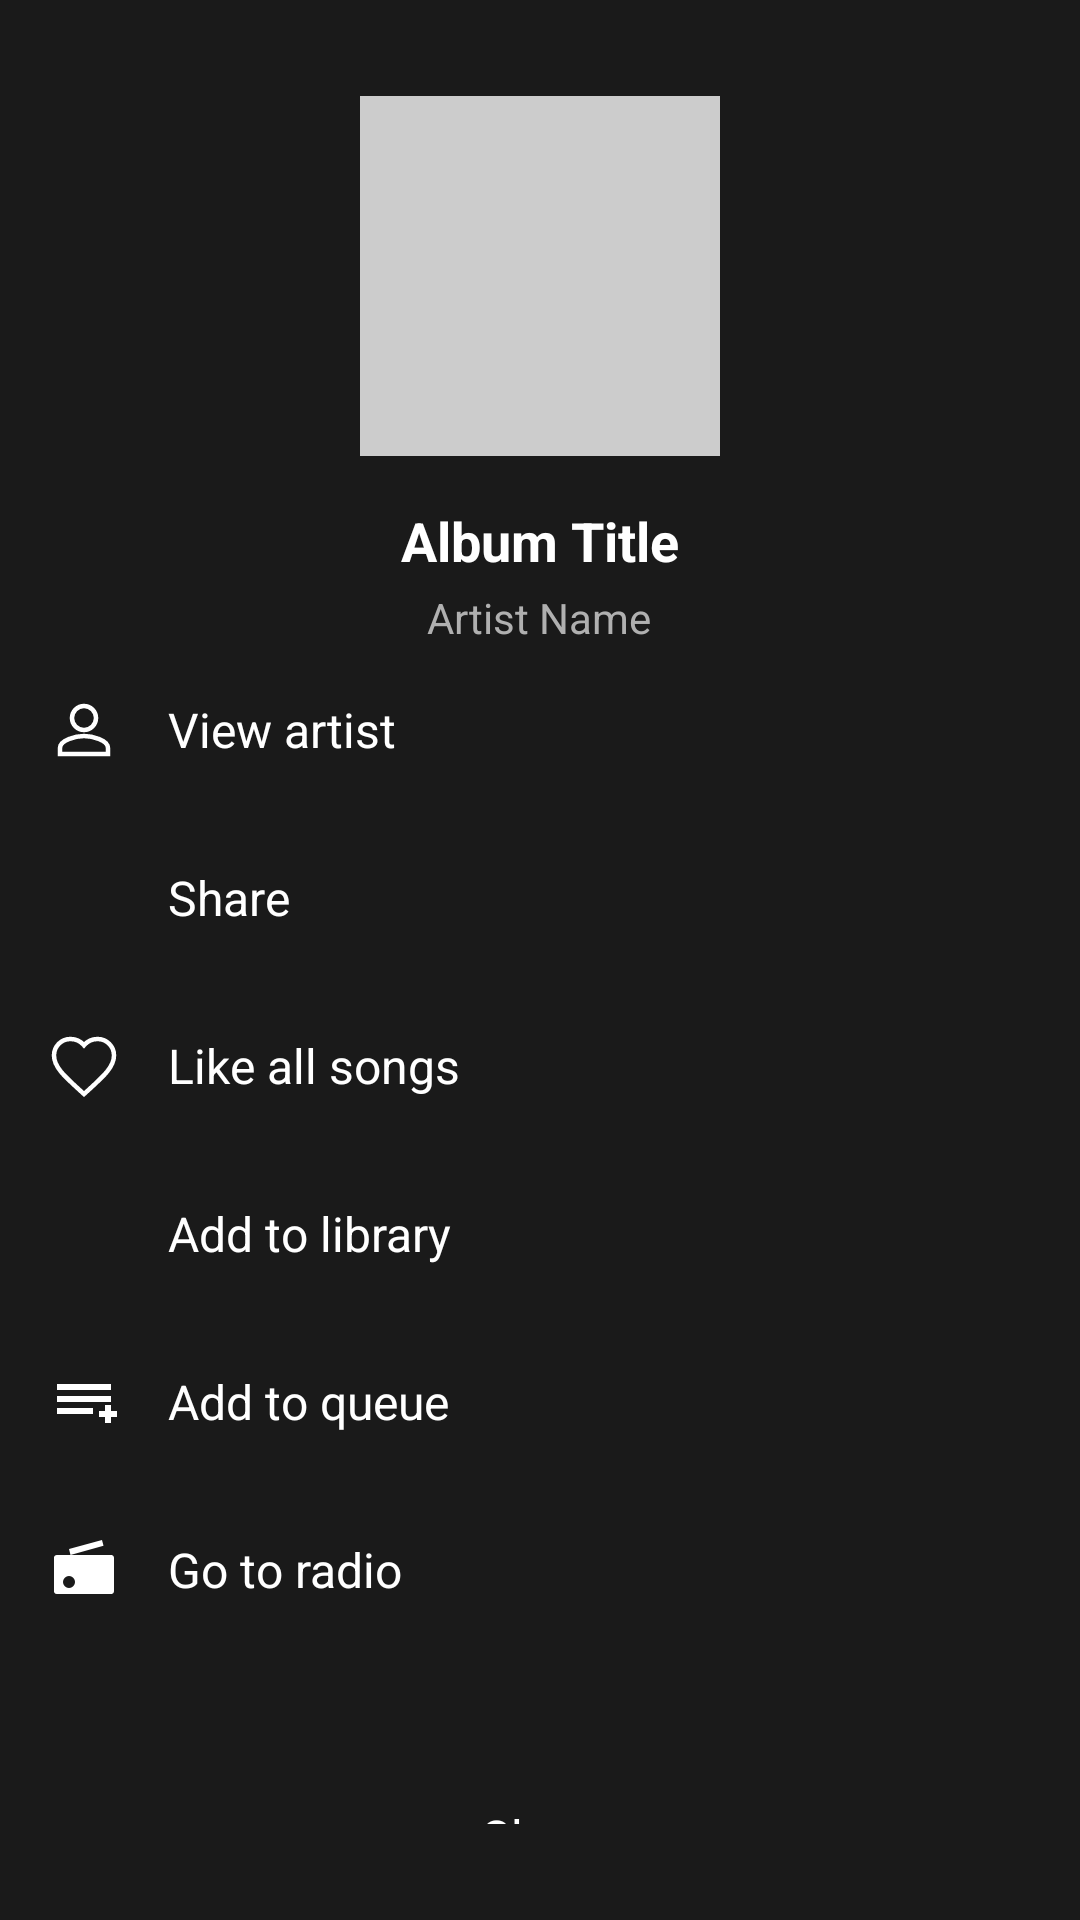

Where icons sit on this 1080x1920 app screen, as (x1, y1, x2, y2):
heart: (51, 1036, 117, 1097)
